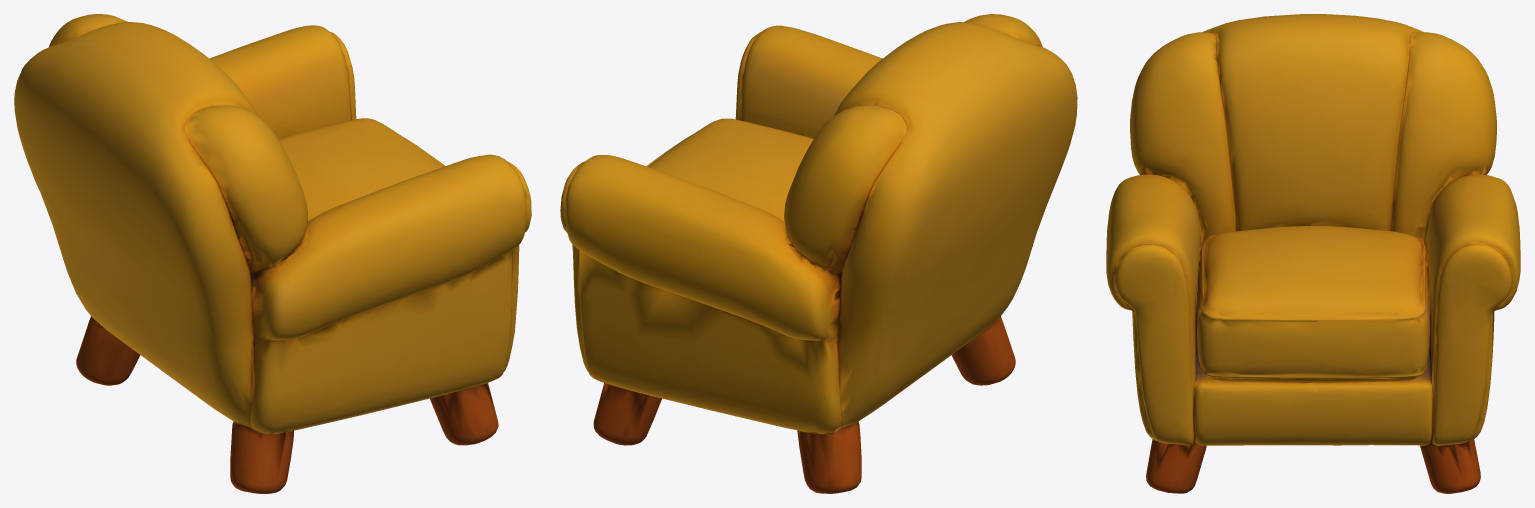
Rendered from armchair.glb.
The picture shows the model from 3 angles, left to right: view 1: azimuth 30°, elevation 25°; view 2: azimuth 150°, elevation 25°; view 3: azimuth 270°, elevation 25°; orthographic projection. The views are drawn at different scales.
Visible parts, largest first — view 1: tripo_node_11687c06-7208-47a8-b1cd-bd7e5454a8c1; view 2: tripo_node_11687c06-7208-47a8-b1cd-bd7e5454a8c1; view 3: tripo_node_11687c06-7208-47a8-b1cd-bd7e5454a8c1.
Boxes of the visible parts, box(x1,y1,x2,y2) form: tripo_node_11687c06-7208-47a8-b1cd-bd7e5454a8c1: box(14, 14, 531, 493); tripo_node_11687c06-7208-47a8-b1cd-bd7e5454a8c1: box(560, 14, 1077, 493); tripo_node_11687c06-7208-47a8-b1cd-bd7e5454a8c1: box(1106, 14, 1520, 493).
Bounding box in the file's own units: 0.9231 × 0.9744 × 0.9995.
1 material, 1 textured.
